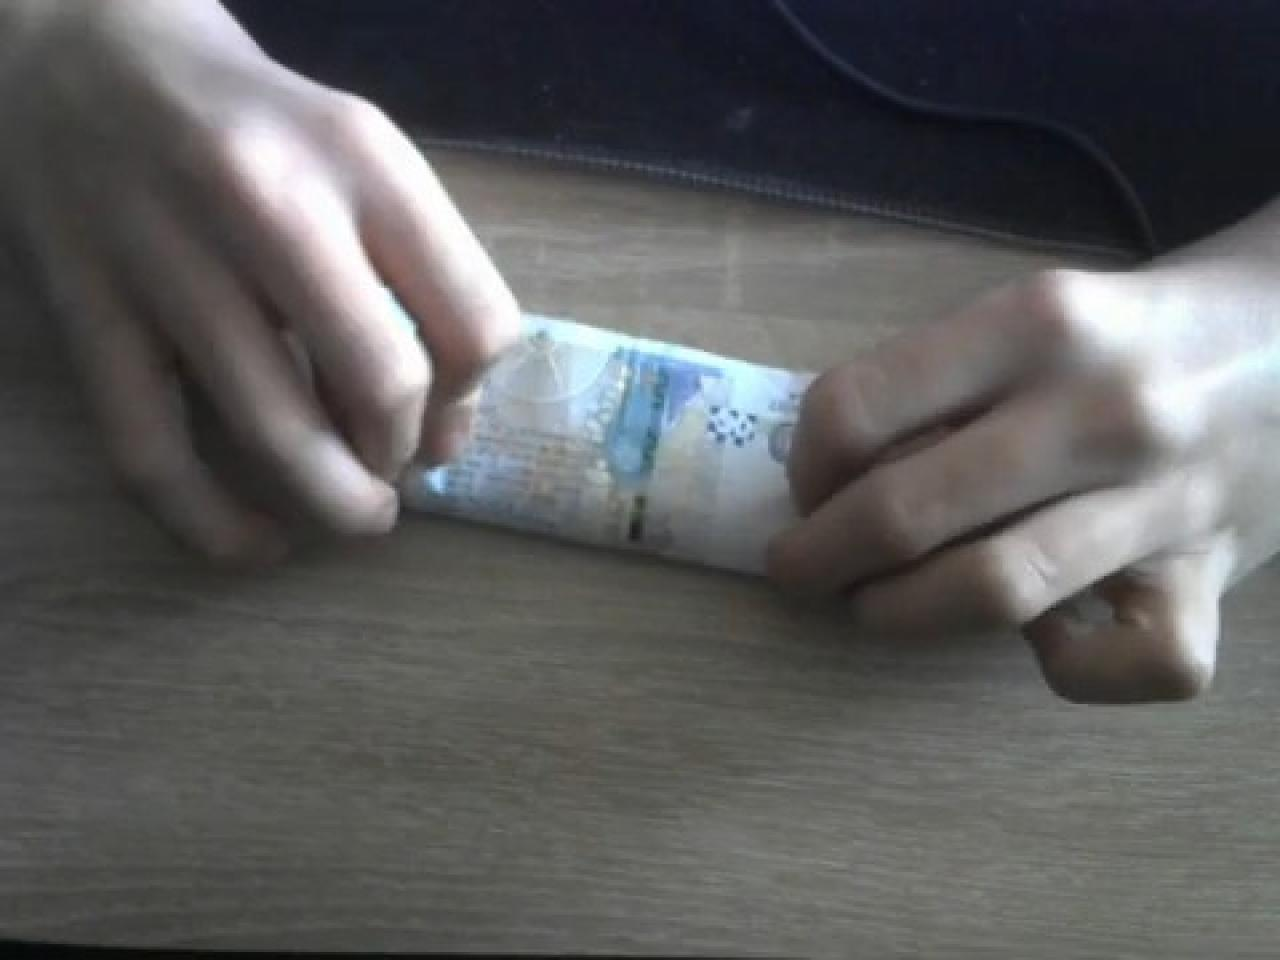20leva: (403, 318, 816, 579)
